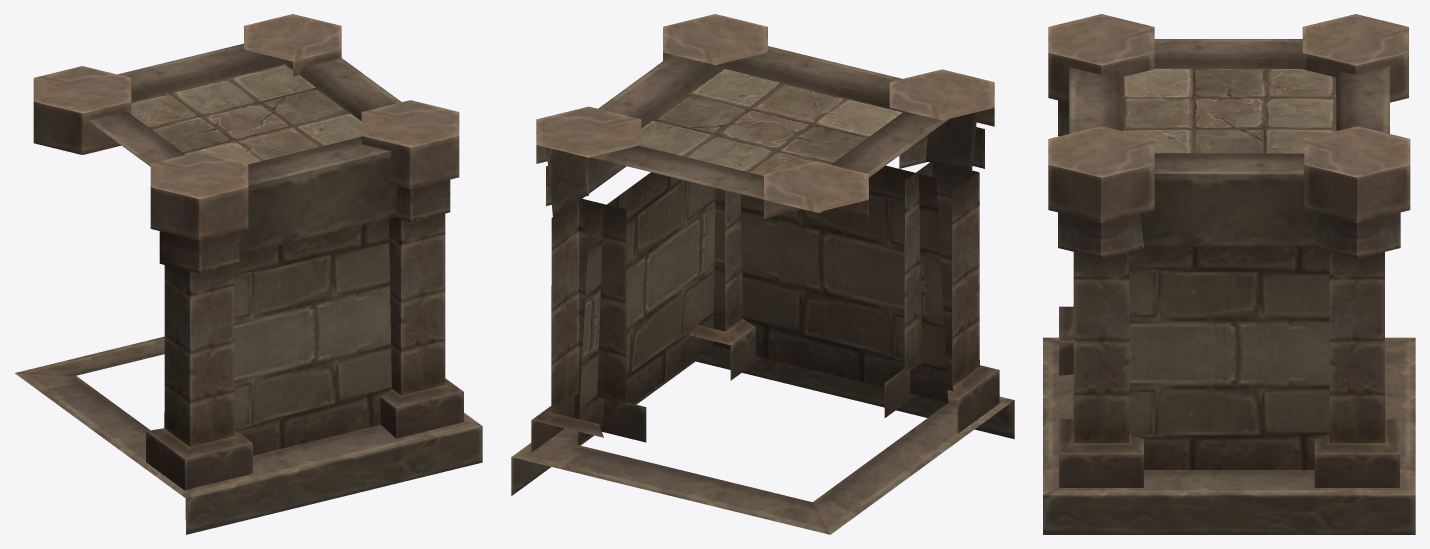
The model's file is building_section03_guanka11_bj05.FBX.
3 renders of one model, left to right at view 1: azimuth 30°, elevation 25°; view 2: azimuth 150°, elevation 25°; view 3: azimuth 270°, elevation 25°, orthographic. The views are drawn at different scales.
Visible parts, largest first — view 1: building_section03_guanka11_bj05; view 2: building_section03_guanka11_bj05; view 3: building_section03_guanka11_bj05.
Boxes of the visible parts, x1,y1,x2,y2 form: building_section03_guanka11_bj05: (15,14,482,534); building_section03_guanka11_bj05: (511,14,1014,534); building_section03_guanka11_bj05: (1043,14,1415,534).
Bounding box in the file's own units: 18.62 × 19.03 × 17.91.
